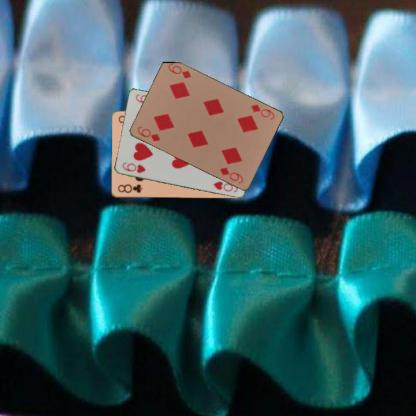6d: (134, 124, 162, 143), (248, 102, 275, 120)
6h: (119, 160, 146, 174)
8c: (115, 182, 143, 194)
